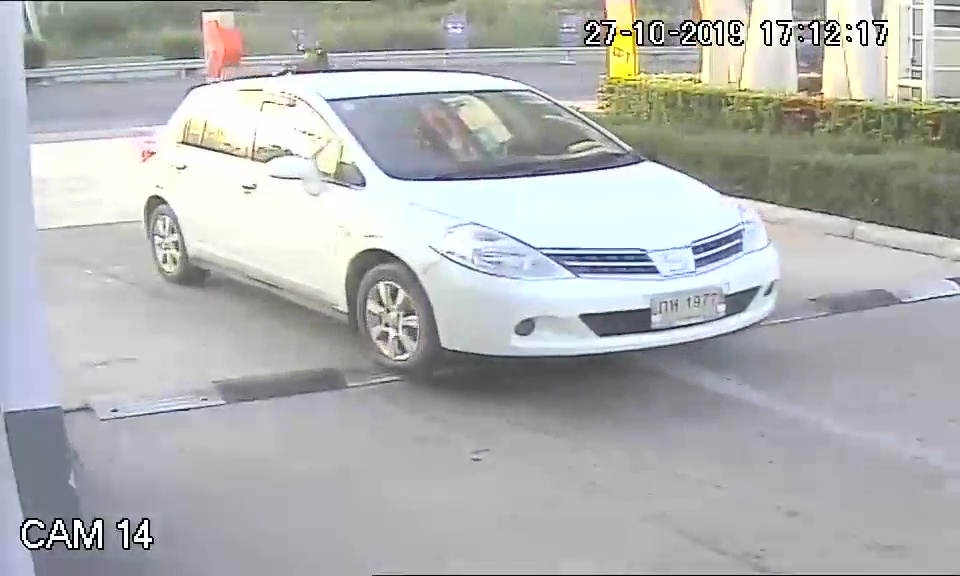sedan: (137, 66, 783, 386)
